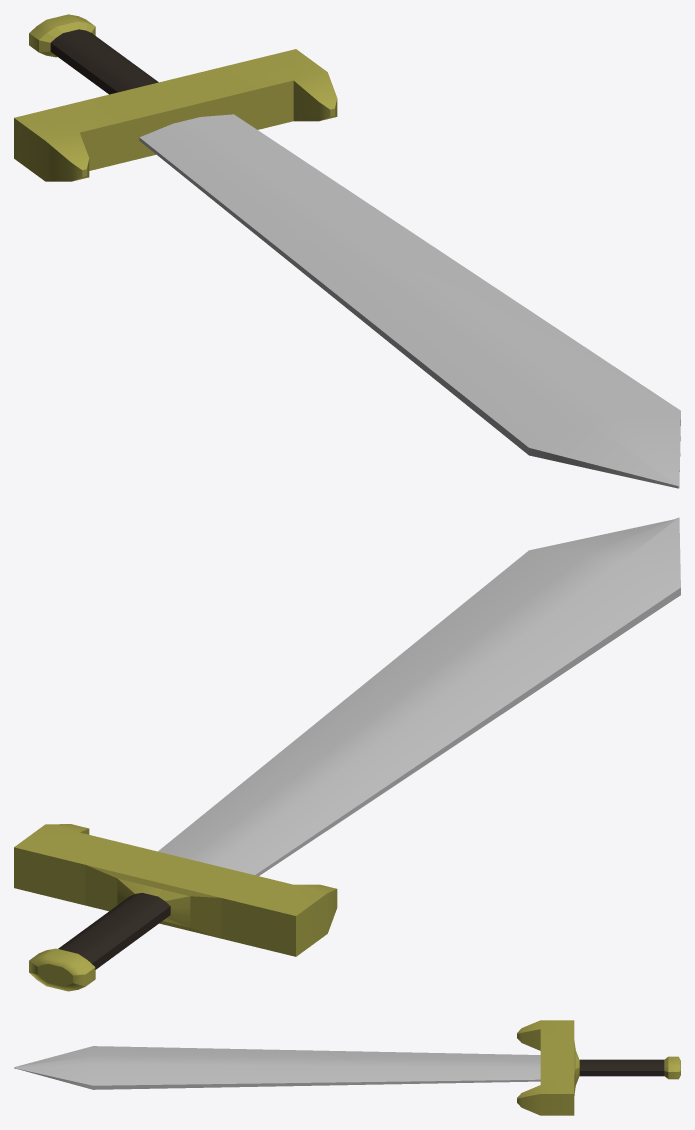
Rendered from Sword.fbx.
3 renders of one model, top to bottom at view 1: azimuth 30°, elevation 25°; view 2: azimuth 150°, elevation 25°; view 3: azimuth 270°, elevation 25°, orthographic. The views are drawn at different scales.
Visible parts, largest first — view 1: SwordObject:pCube1; view 2: SwordObject:pCube1; view 3: SwordObject:pCube1.
Boxes of the visible parts, x1,y1,x2,y2 form: SwordObject:pCube1: (14, 14, 680, 488); SwordObject:pCube1: (14, 517, 680, 991); SwordObject:pCube1: (14, 1020, 680, 1115).
Size of the model in its own units: 0.8937 by 0.1234 by 3.42.
